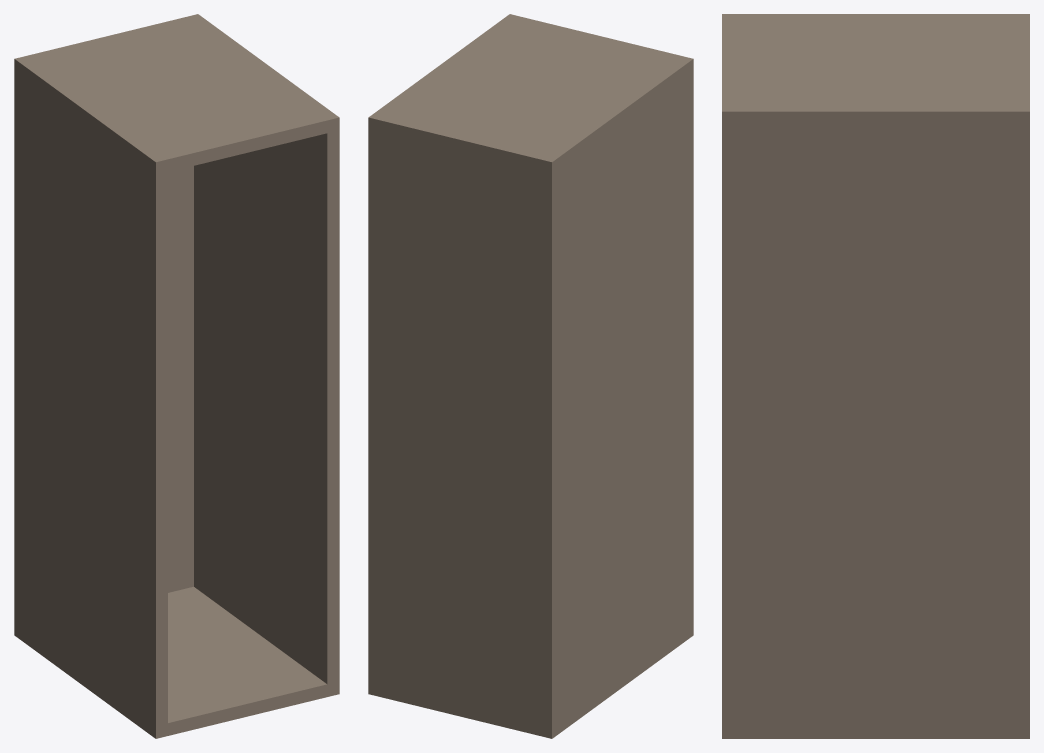
File: Kitchen1_C5_09.fbx
3 renders of one model, left to right at view 1: azimuth 30°, elevation 25°; view 2: azimuth 150°, elevation 25°; view 3: azimuth 270°, elevation 25°, orthographic. The views are drawn at different scales.
Parts seen in each view (by area): view 1: Kitchen1_C5_09; view 2: Kitchen1_C5_09; view 3: Kitchen1_C5_09.
Boxes of the visible parts, box(x1,y1,x2,y2) form: Kitchen1_C5_09: box(14, 14, 339, 738); Kitchen1_C5_09: box(368, 14, 693, 738); Kitchen1_C5_09: box(722, 14, 1029, 738).
Bounding box in the file's own units: 30 × 90 × 40.
